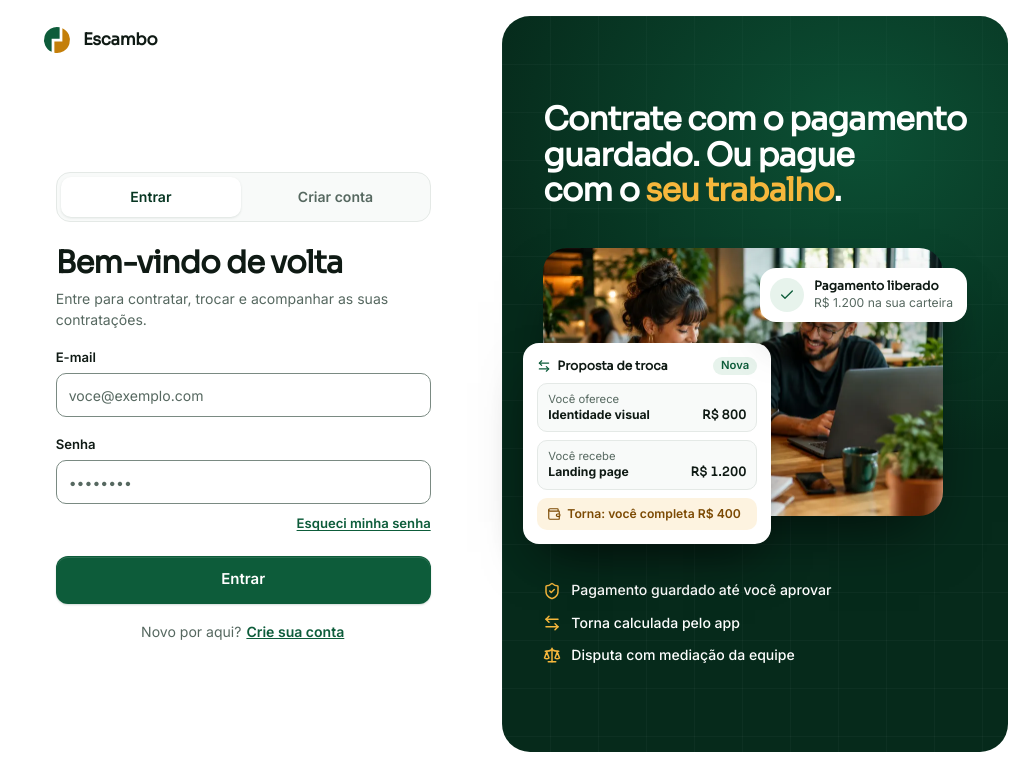
LoginForm: entrar › login recusado: mostra o erro que o contexto guardou e libera o botão para tentar de novo
This screenshot has width=1024, height=768.
Check: the text "E-mail ou senha incorretos" is not shown
Type "ana@escambo.test" into the field labelled "E-mail" at (243, 395), box [56,373,431,417]
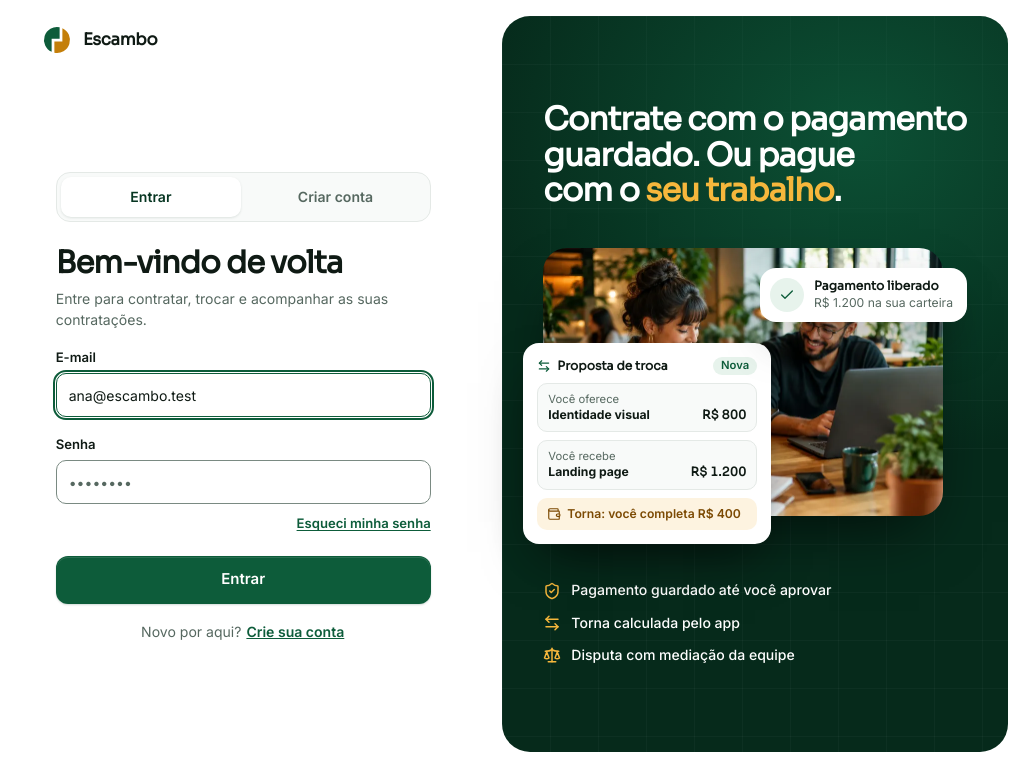
Type "errada" into the password field labelled "Senha" at (243, 482), box [56,460,431,504]
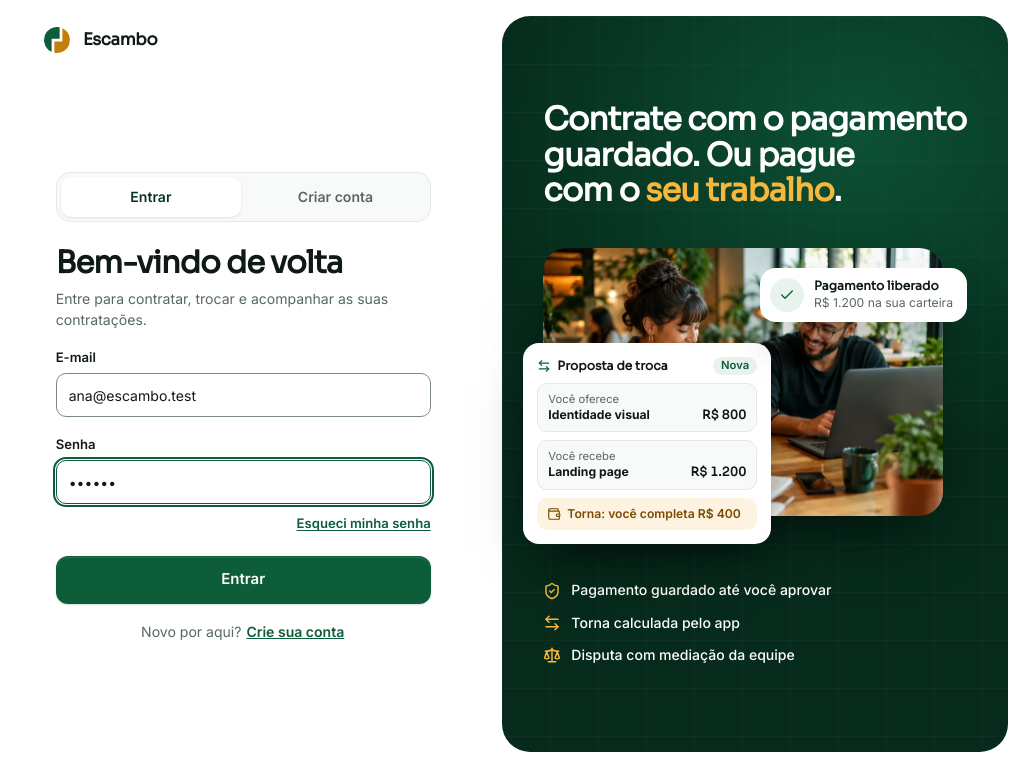
Click the 2nd button "Entrar" at (243, 580), box [56,556,431,604]
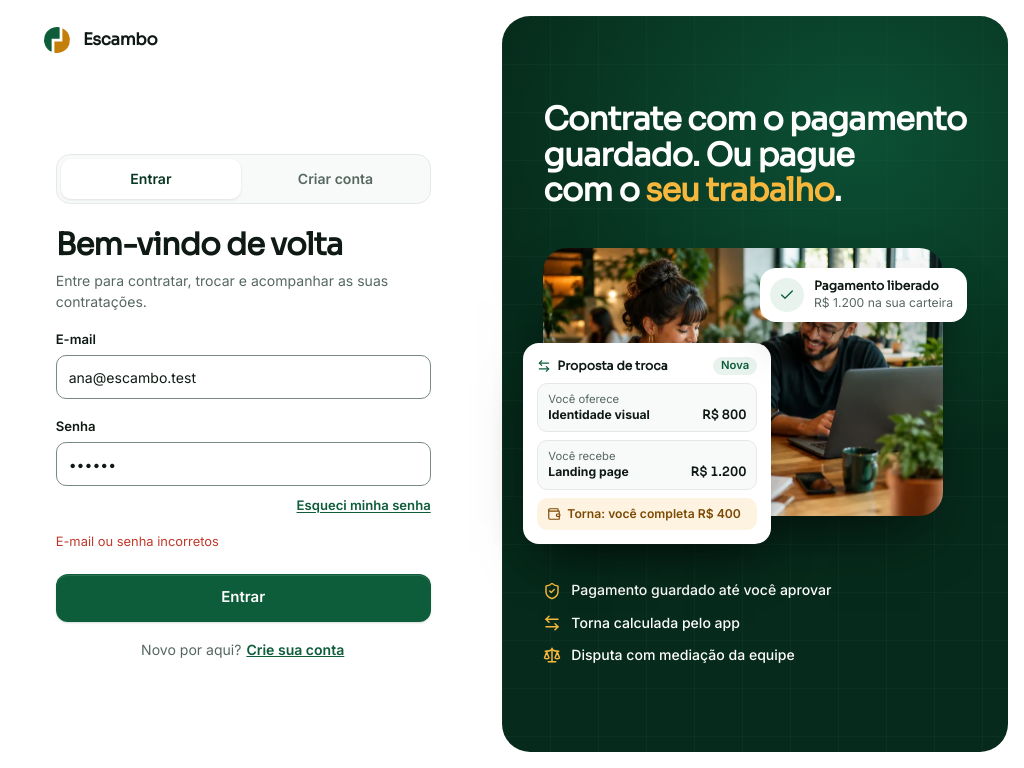
Check: the 2nd button "Entrar" is enabled, box [56,574,431,622]
Check: the message reads "E-mail ou senha incorretos", box [56,534,219,549]
